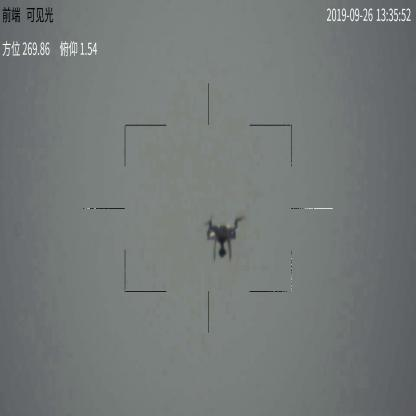uav: (199, 214, 243, 261)
